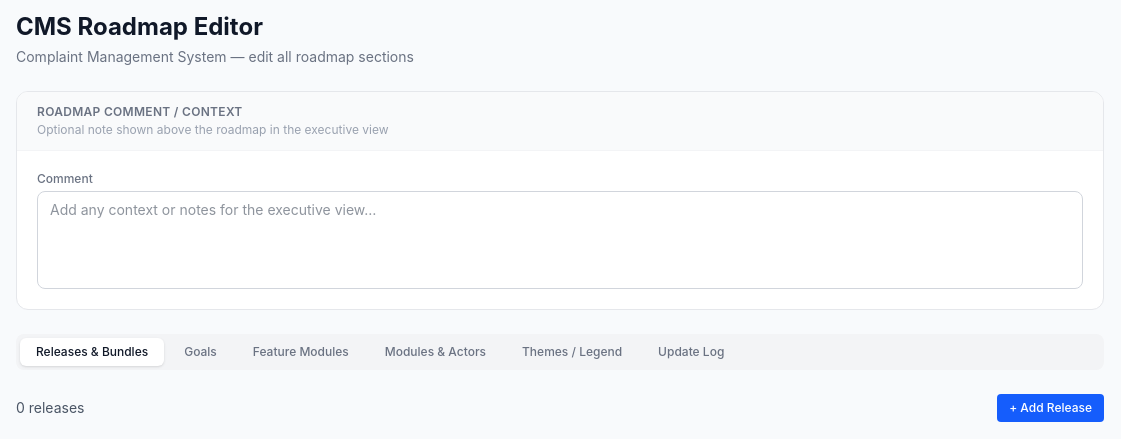
it: ComplaintsRoadmapEditor (via RoadmapEditor with cms slug) › T-50.06: clicking Update Log tab shows log content
Click the button "Update Log".
click(691, 352)  # box [642,338,740,366]
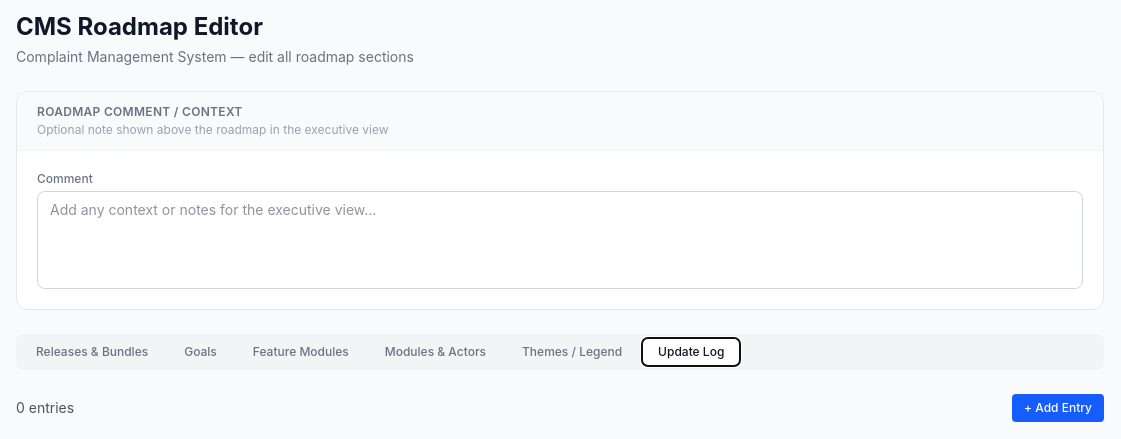
Check: the button "+ Add Entry" is shown, box [1012,394,1104,422]
